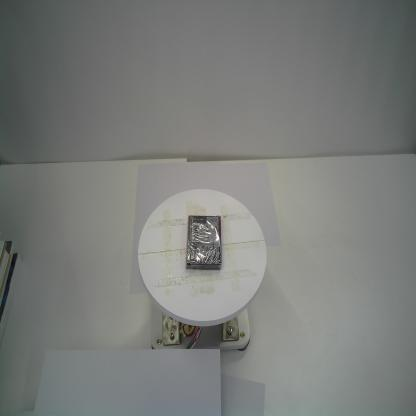Gum: (185, 215, 222, 271)
